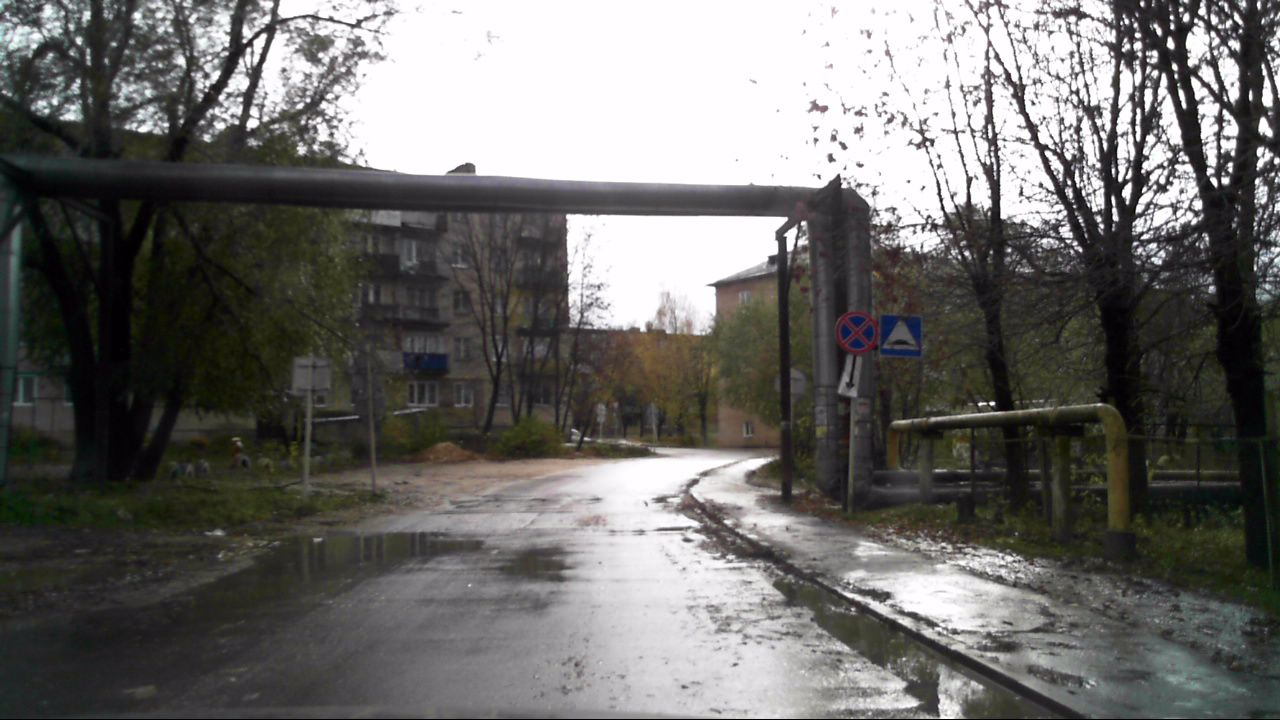No Parking: (833, 311, 876, 353)
